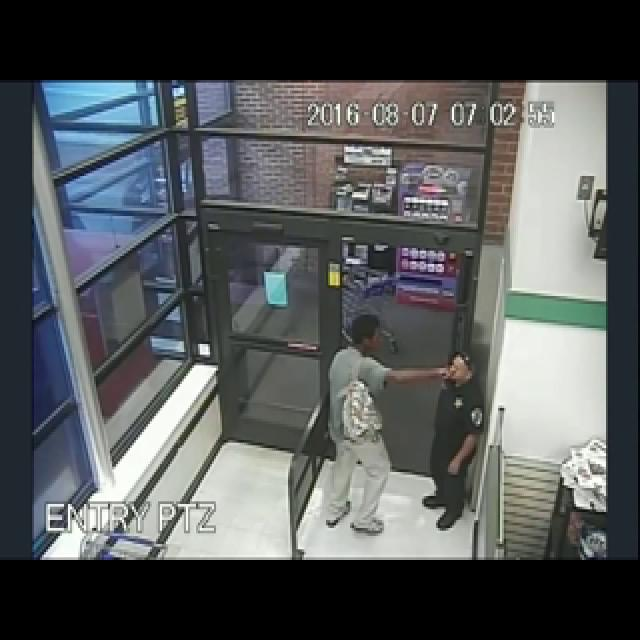arrest: (285, 150, 638, 544)
